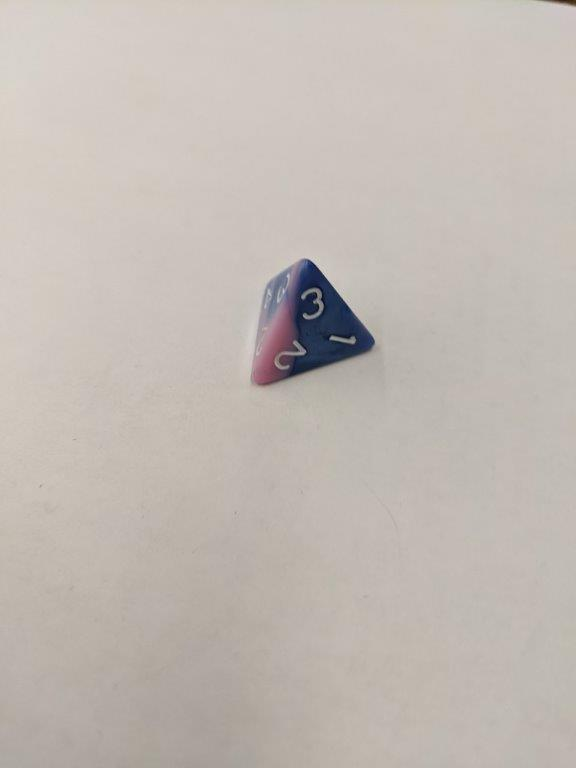d4-3: (242, 253, 380, 392)
